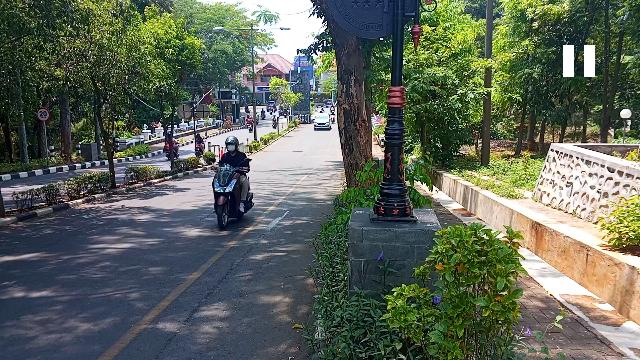helm: (227, 137, 240, 153)
motor: (211, 165, 256, 229)
